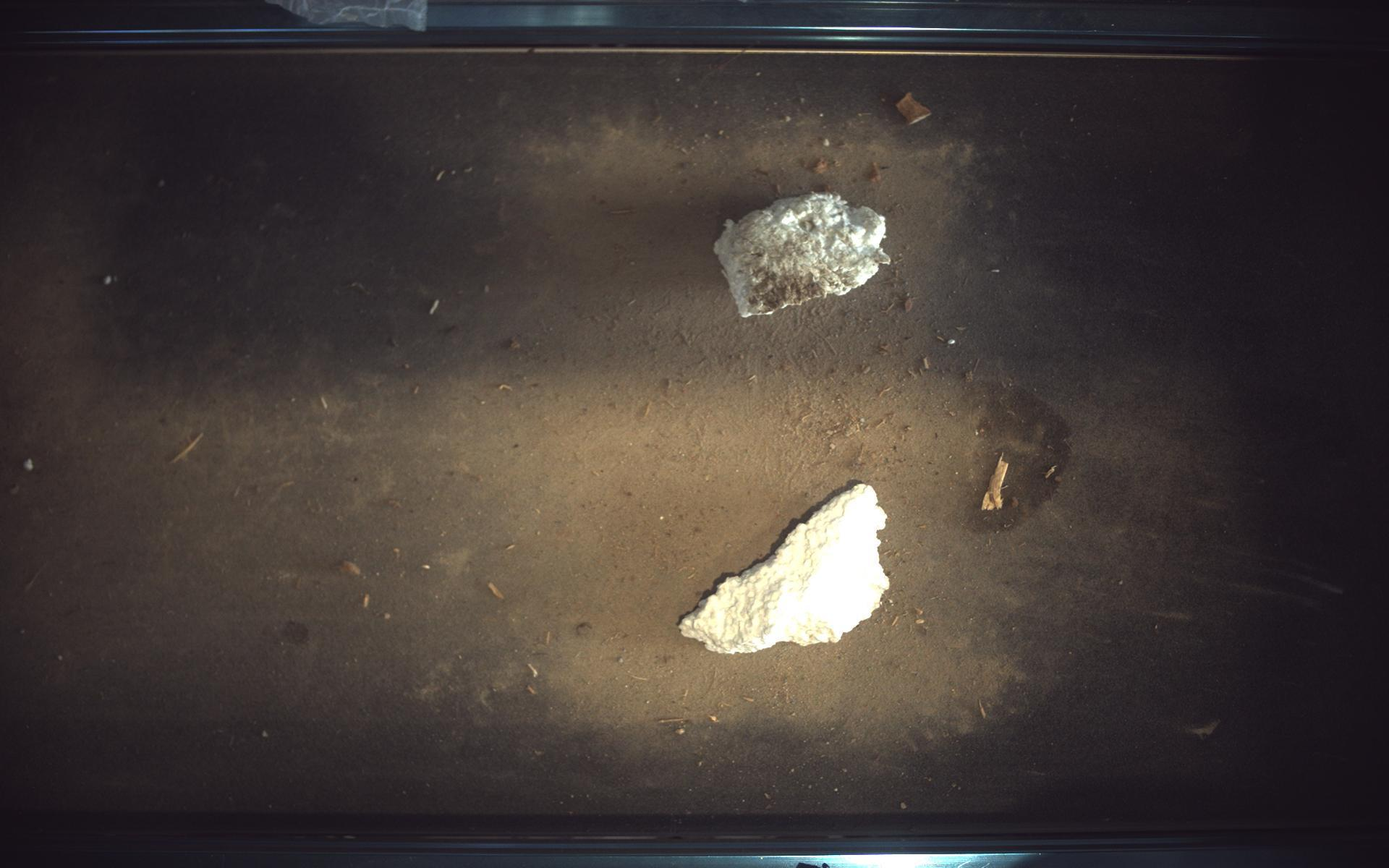foam: (680, 484, 891, 655), (715, 192, 892, 317)
